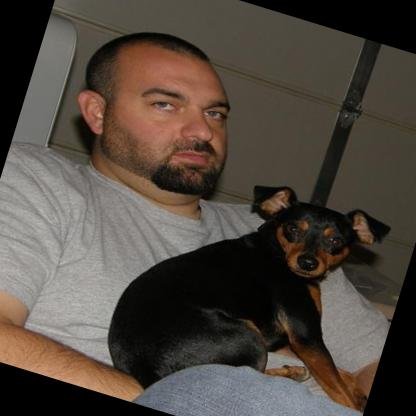miniature_pinscher: (90, 146, 416, 416)
